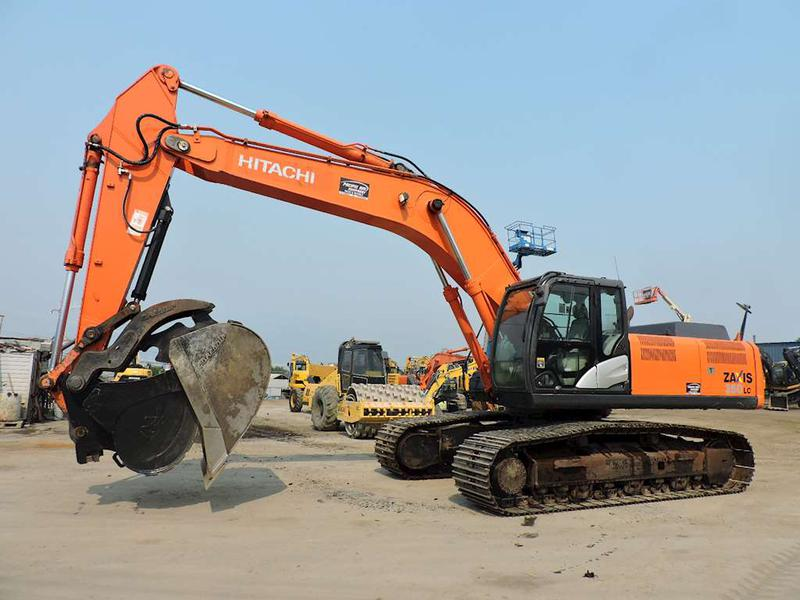shovel: (44, 54, 773, 521)
